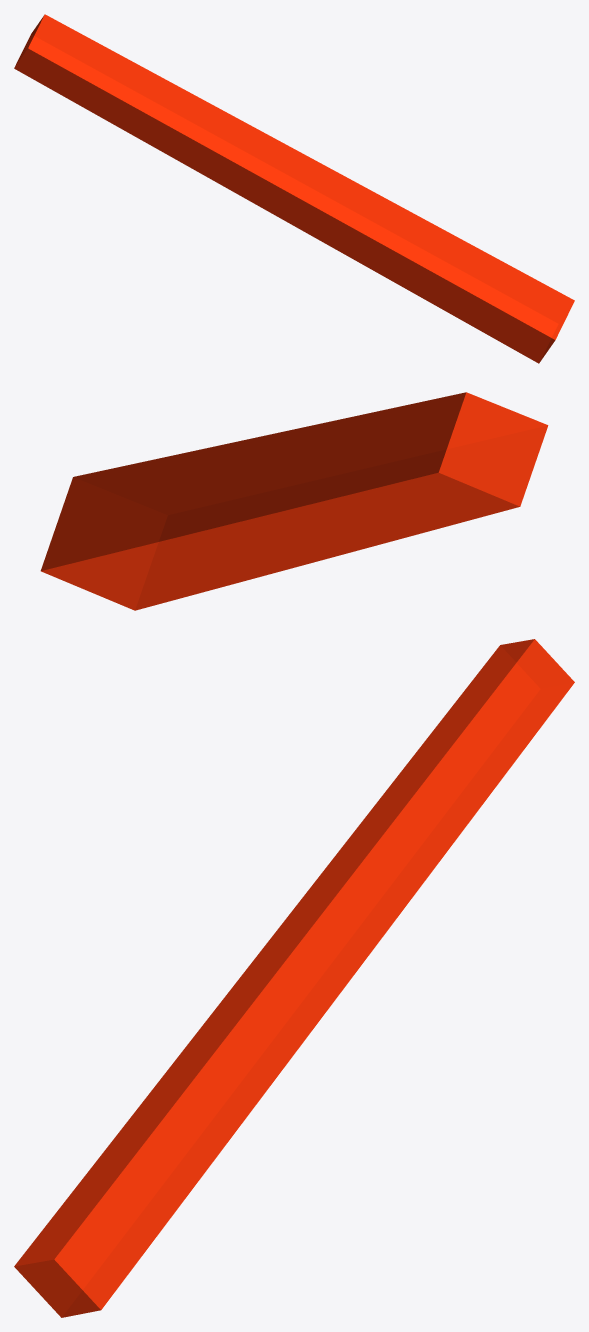
File: Event_421127236_EBrechit_47.fbx
The picture shows the model from 3 angles, top to bottom: view 1: azimuth 30°, elevation 25°; view 2: azimuth 150°, elevation 25°; view 3: azimuth 270°, elevation 25°; orthographic projection. The views are drawn at different scales.
Parts seen in each view (by area): view 1: Model; view 2: Model; view 3: Model.
Part boxes in pixels (x1,y1,x2,y2): Model: (14, 14, 574, 363); Model: (40, 392, 548, 610); Model: (14, 639, 574, 1317).
Size of the model in its own units: 0.5792 by 0.4372 by 0.4975.
